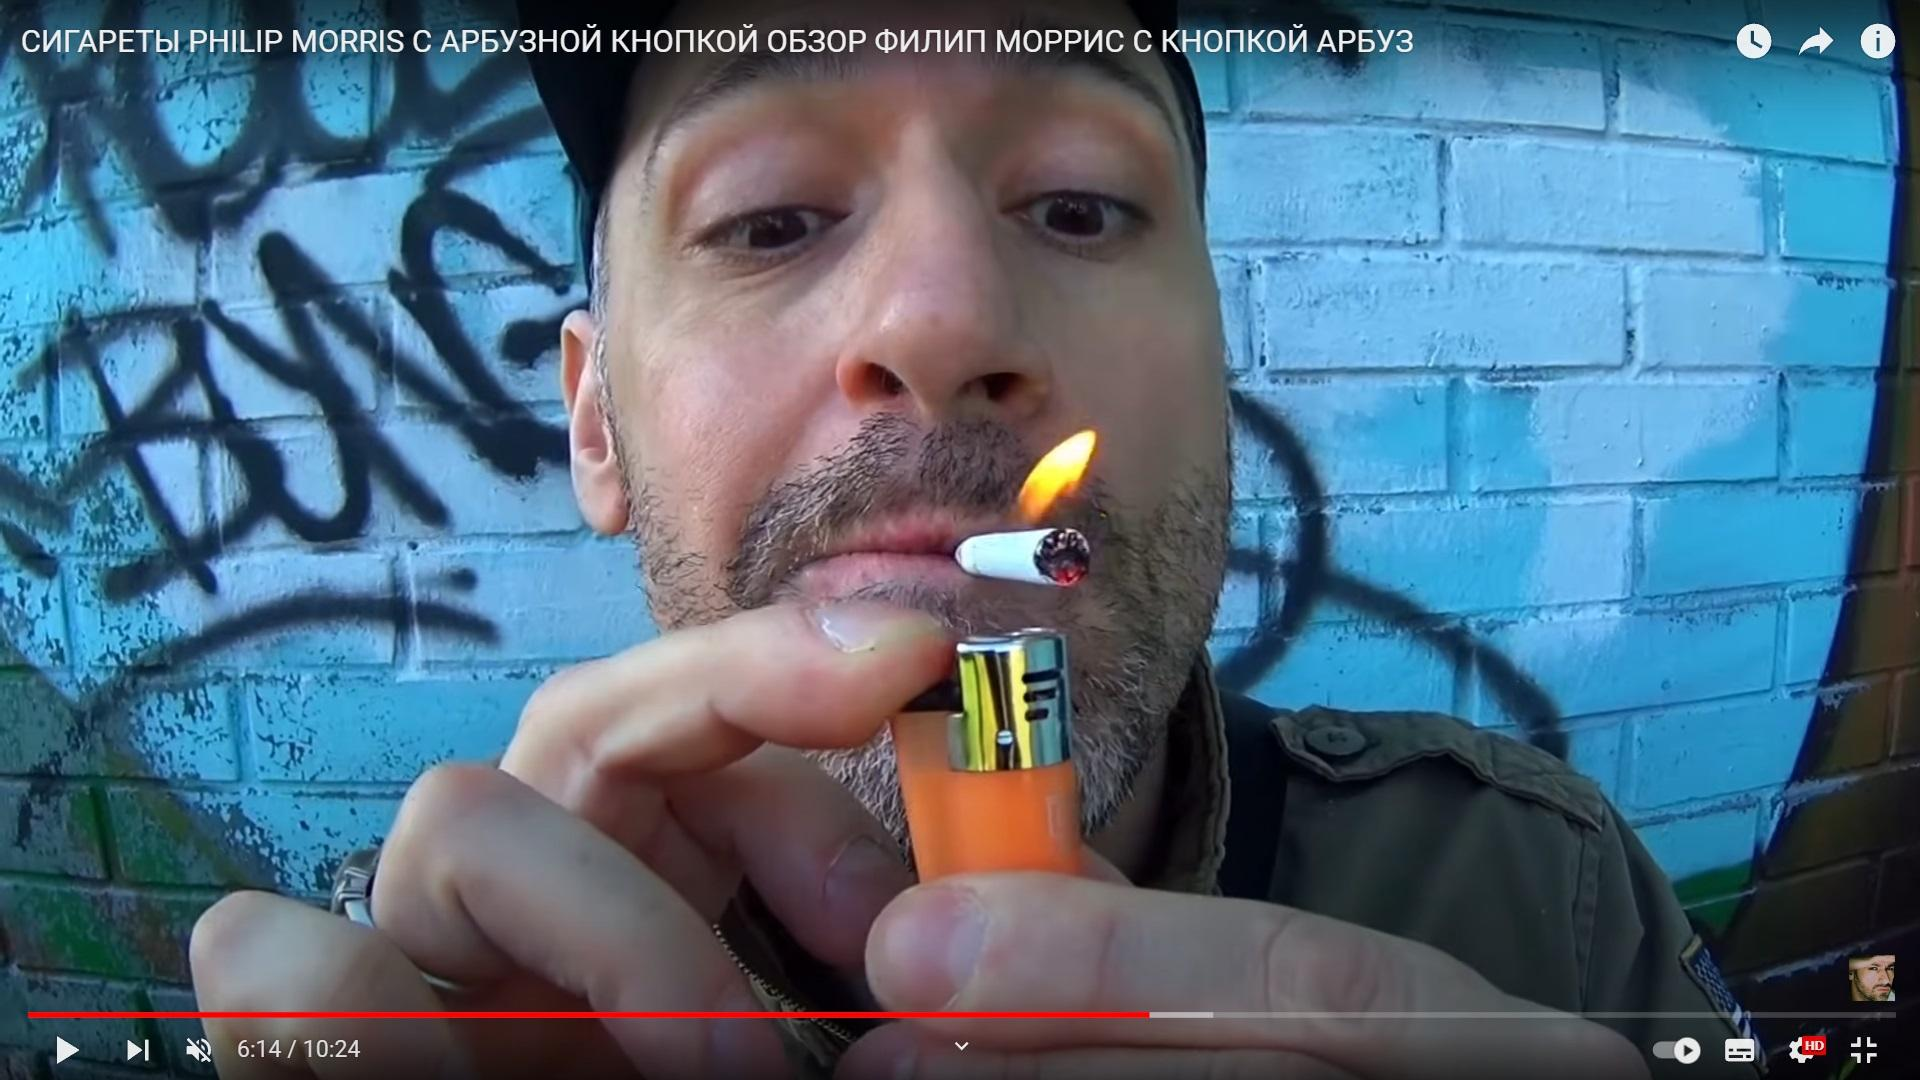cigarette: (949, 527, 1093, 588)
